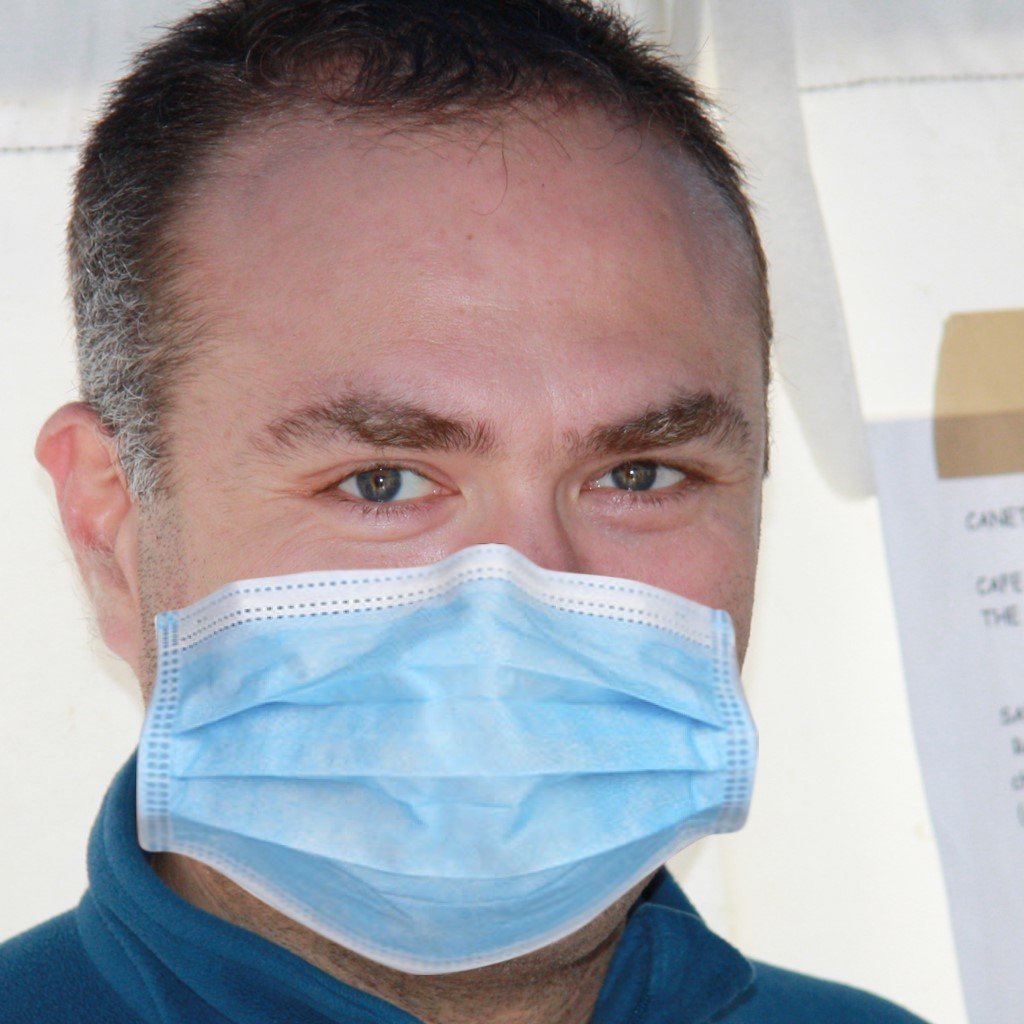con_mascara: (92, 110, 776, 991)
